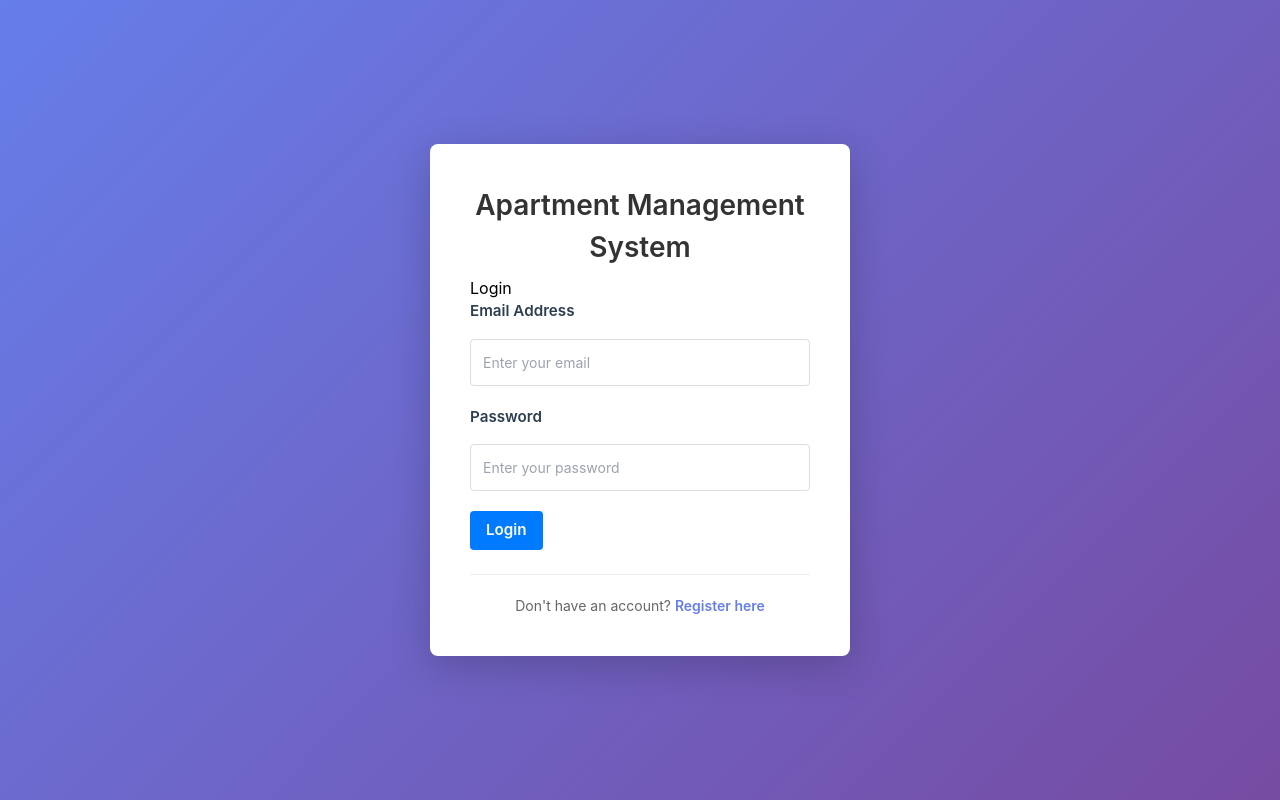
it: Login Component › login functionality › should show error message on login failure
The width and height of the screenshot is (1280, 800).
Type "test@example.com" into the field labelled "Email Address".
click(640, 362); type("test@example.com")  # box [470, 339, 810, 386]
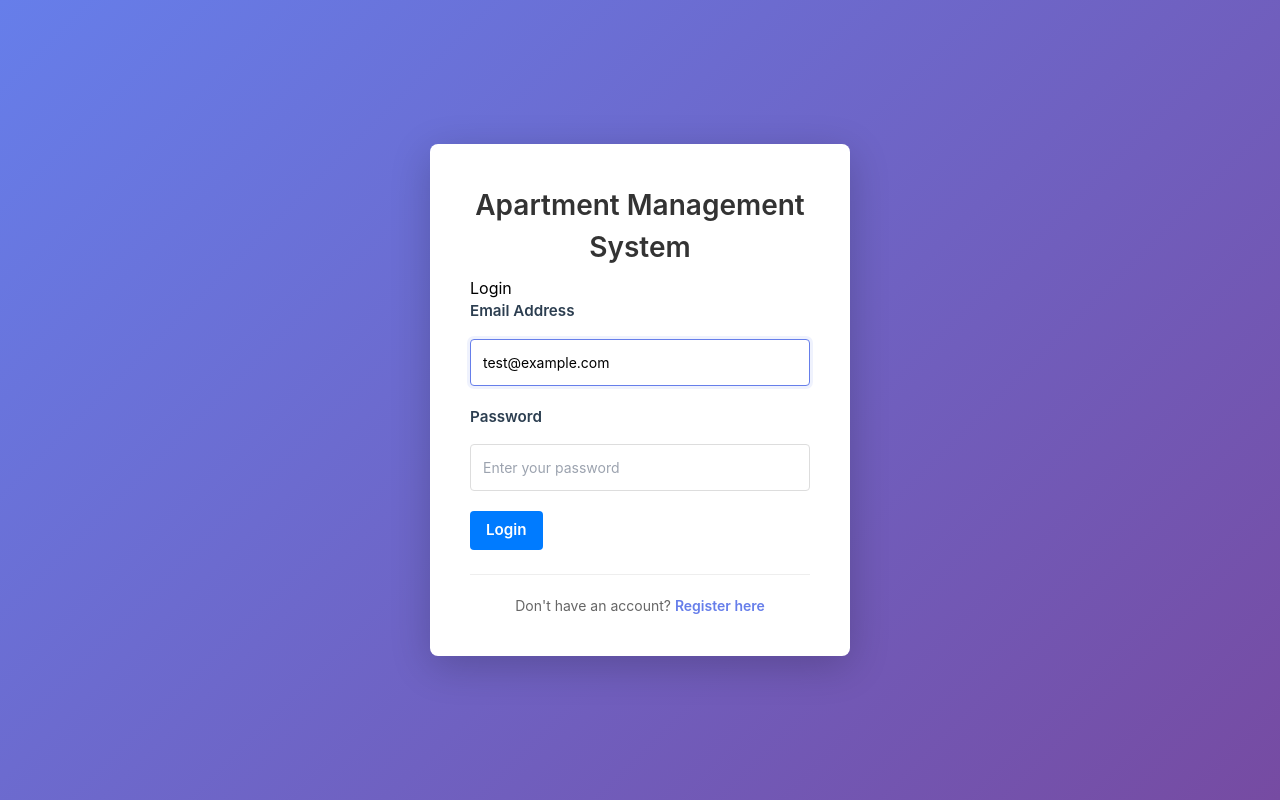
Type "wrongpassword" into the password field labelled "Password".
click(640, 468); type("wrongpassword")  # box [470, 444, 810, 491]
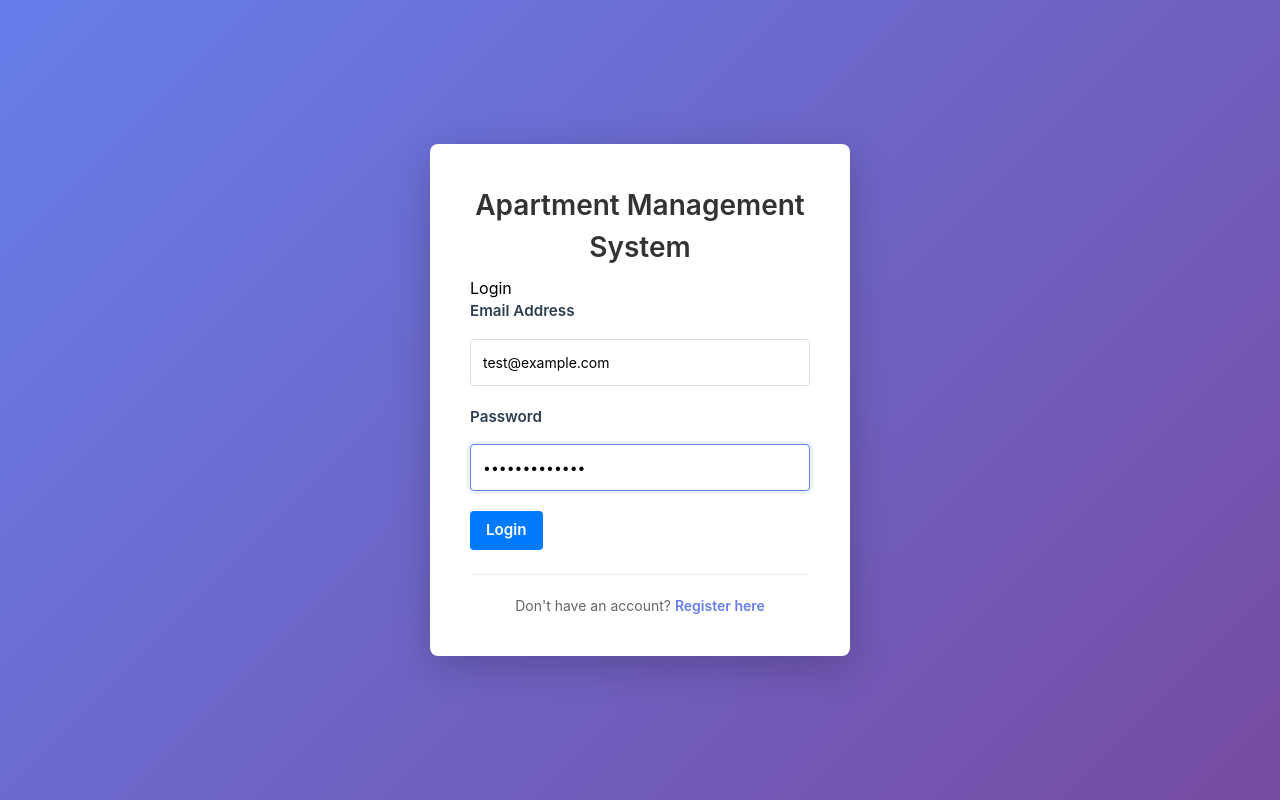
Click the button "Login".
click(506, 531)  # box [470, 511, 543, 550]
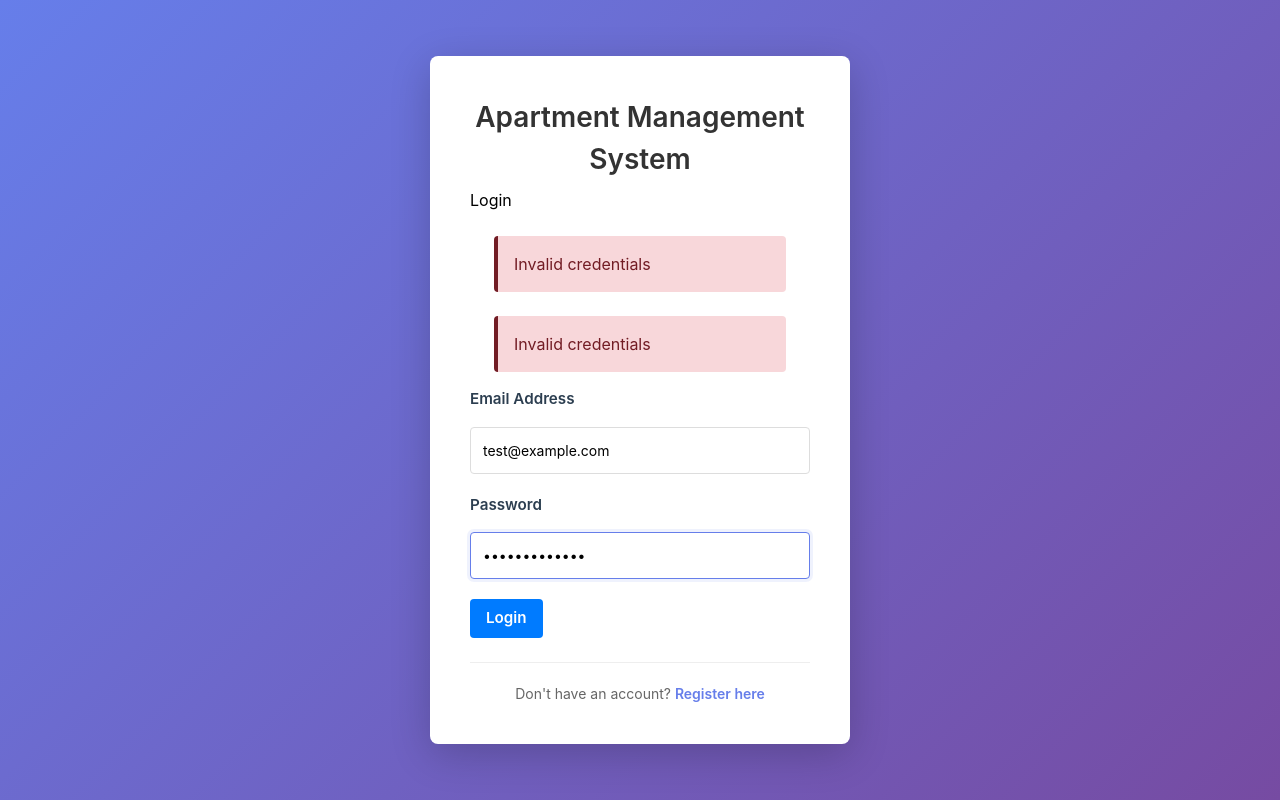
Check: the 1st text "Invalid credentials" is shown, box [494, 236, 786, 292]
